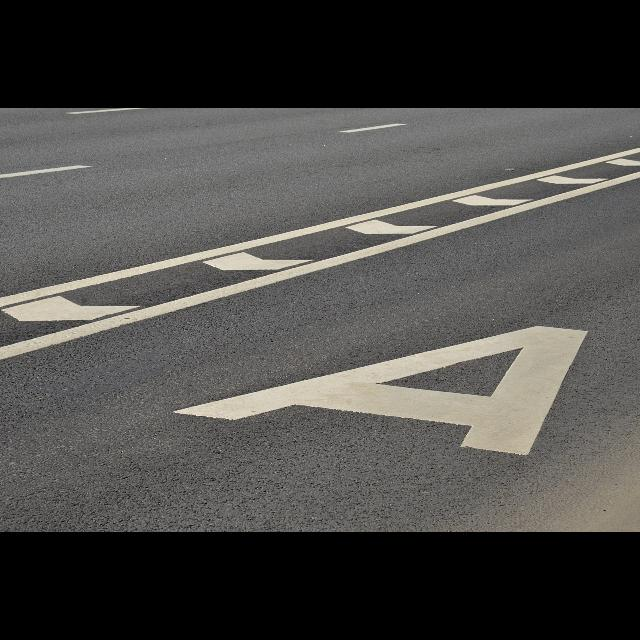road: (0, 108, 640, 532)
